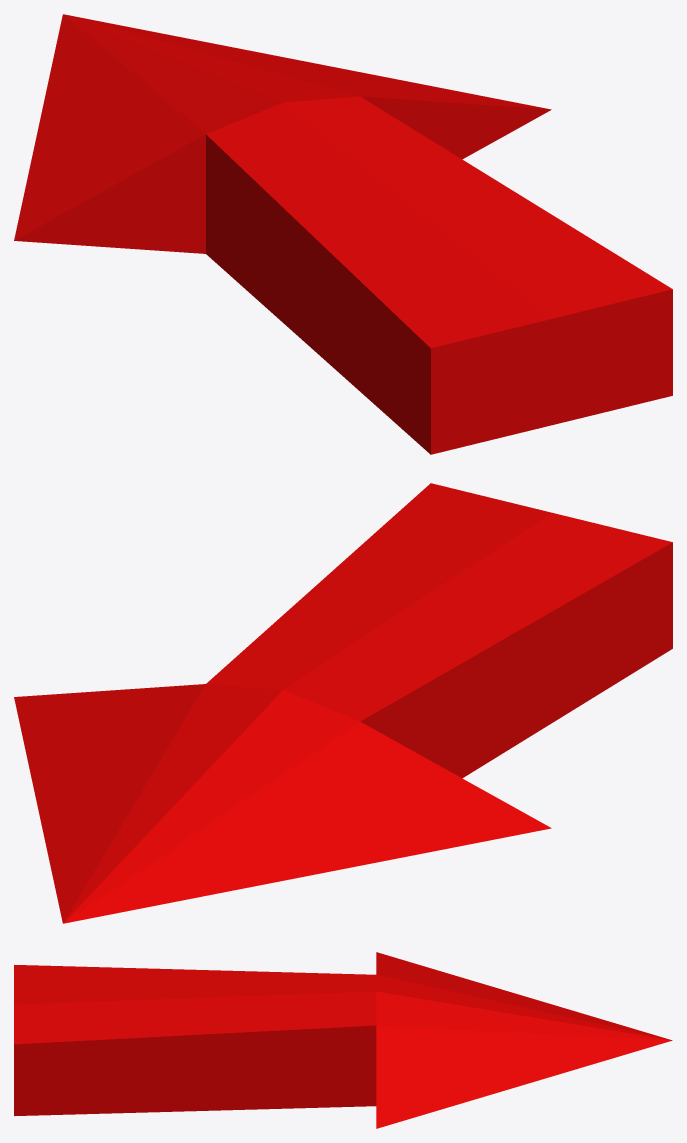
The model's file is Arrow.glb.
3 renders of one model, top to bottom at view 1: azimuth 30°, elevation 25°; view 2: azimuth 150°, elevation 25°; view 3: azimuth 270°, elevation 25°, orthographic. The views are drawn at different scales.
Visible parts, largest first — view 1: Plane; view 2: Plane; view 3: Plane.
Part boxes in pixels (x1=…): Plane: x1=14, y1=14, x2=672, y2=454; Plane: x1=14, y1=483, x2=672, y2=923; Plane: x1=14, y1=952, x2=672, y2=1128.
Bounding box in the file's own units: 1.39 × 0.3596 × 2.2.
